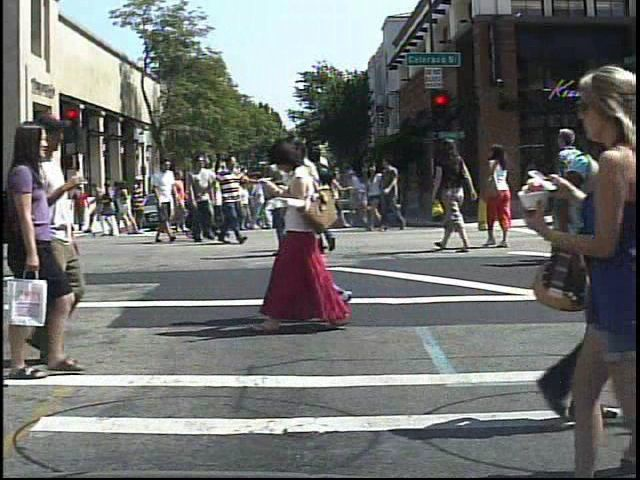person: (1, 113, 82, 384), (37, 108, 109, 369), (259, 135, 345, 336), (292, 130, 366, 329), (551, 119, 593, 270), (584, 132, 626, 278), (262, 135, 307, 264), (428, 134, 475, 249), (306, 150, 352, 261), (297, 141, 339, 251), (481, 142, 519, 256), (211, 151, 249, 246), (185, 155, 221, 248), (580, 147, 612, 245), (147, 156, 179, 246), (128, 172, 149, 241), (72, 182, 92, 232)
